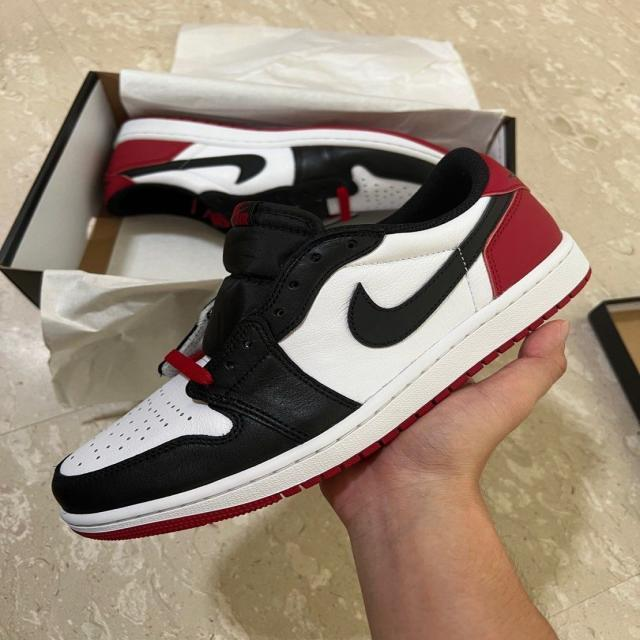nike original jordan 1: (41, 150, 595, 544)
